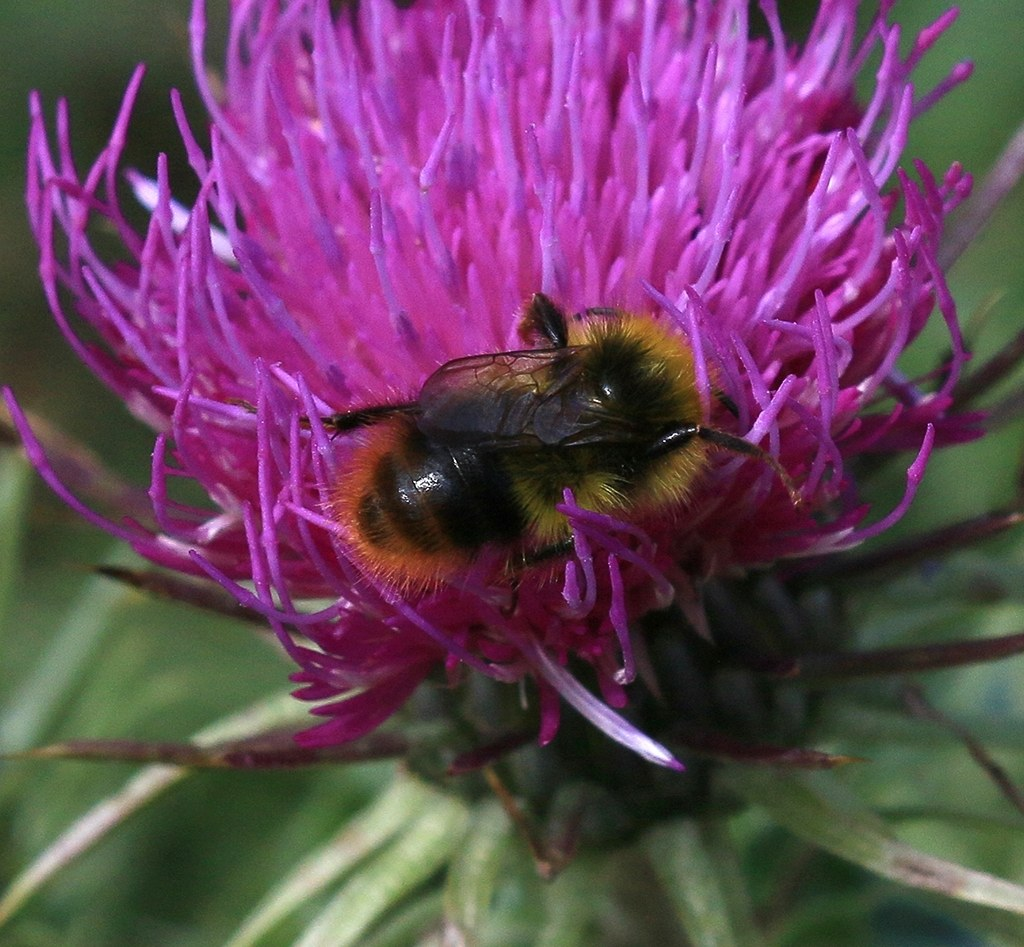bee: (308, 282, 782, 696)
insect: (217, 152, 907, 849)
